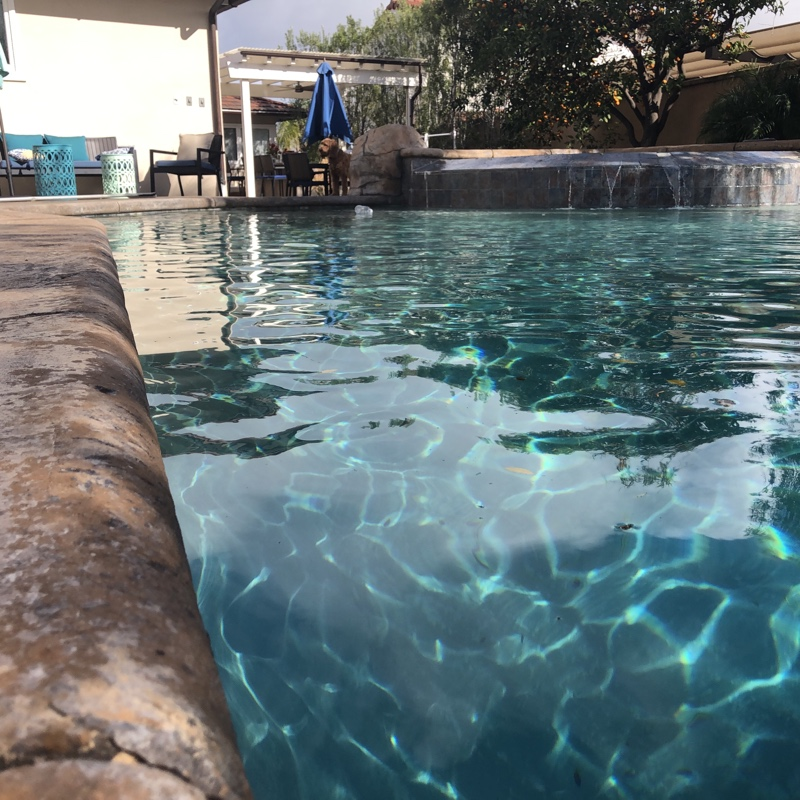Plastic Bottle: (350, 202, 374, 221)
